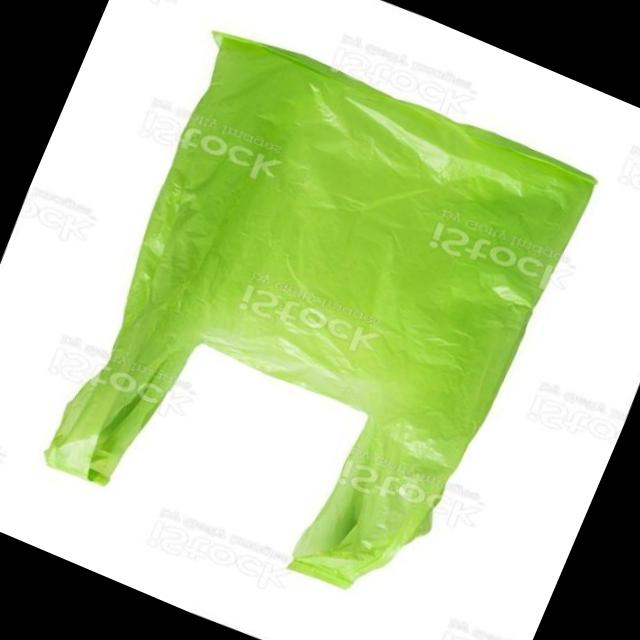KantongPlastik: (27, 14, 600, 626)
